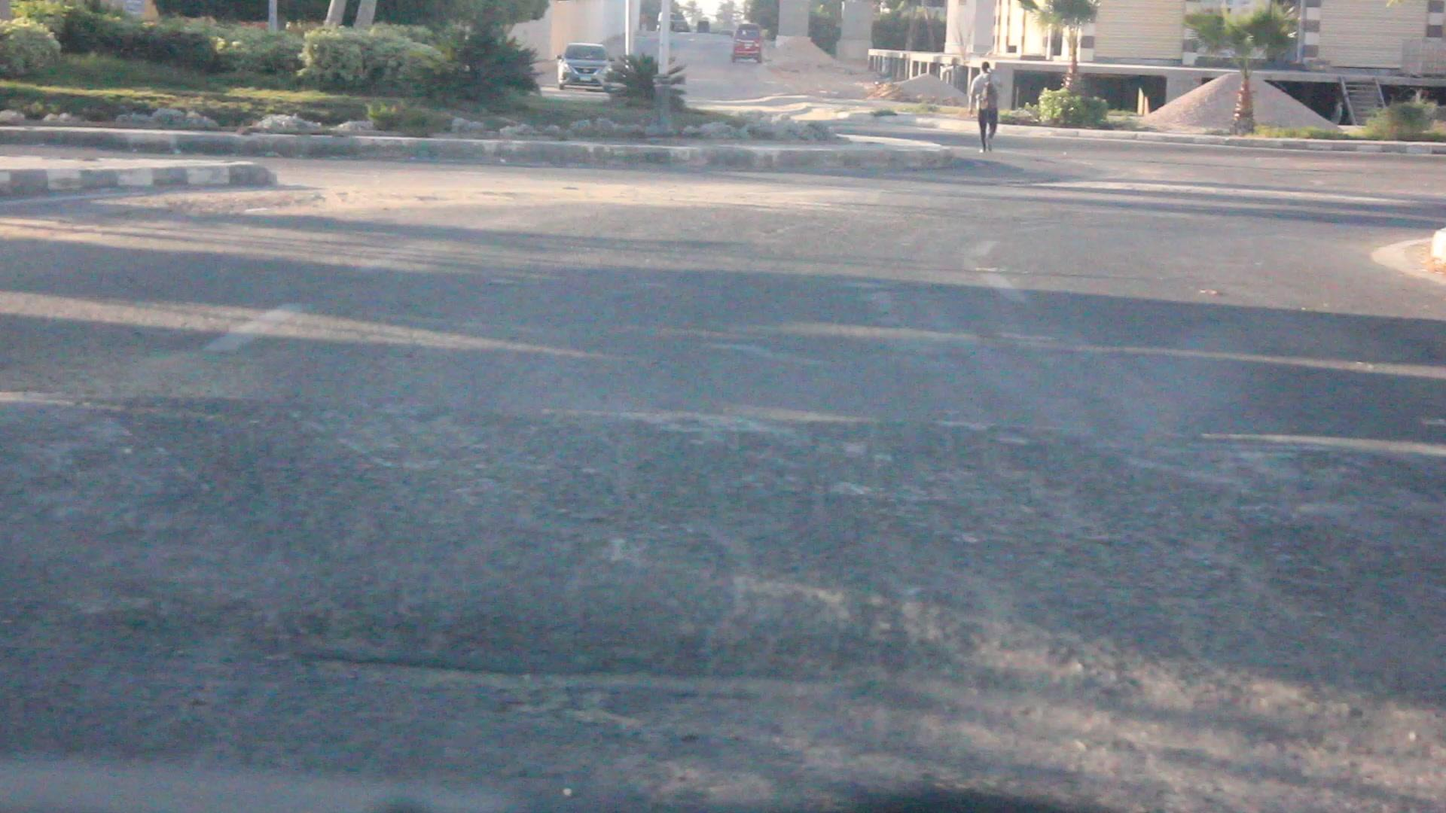Bump: (0, 382, 1446, 745)
